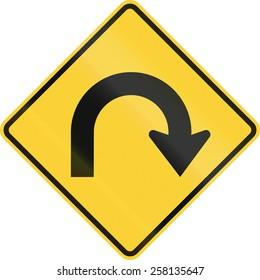Right Hair Pin Bend: (43, 46, 233, 255)
